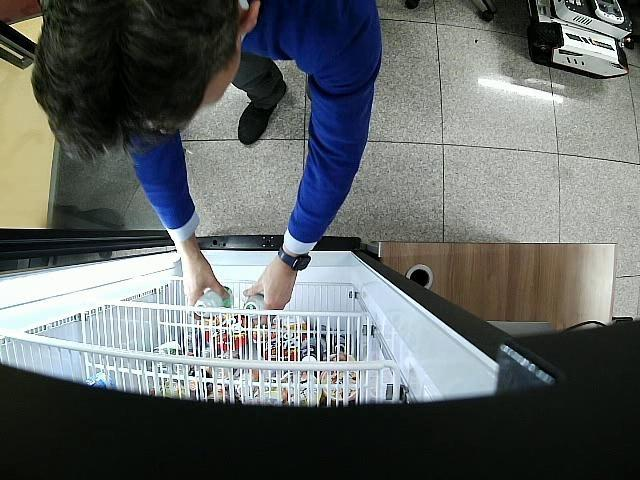18_trevi: (194, 285, 233, 317), (242, 296, 264, 316)
